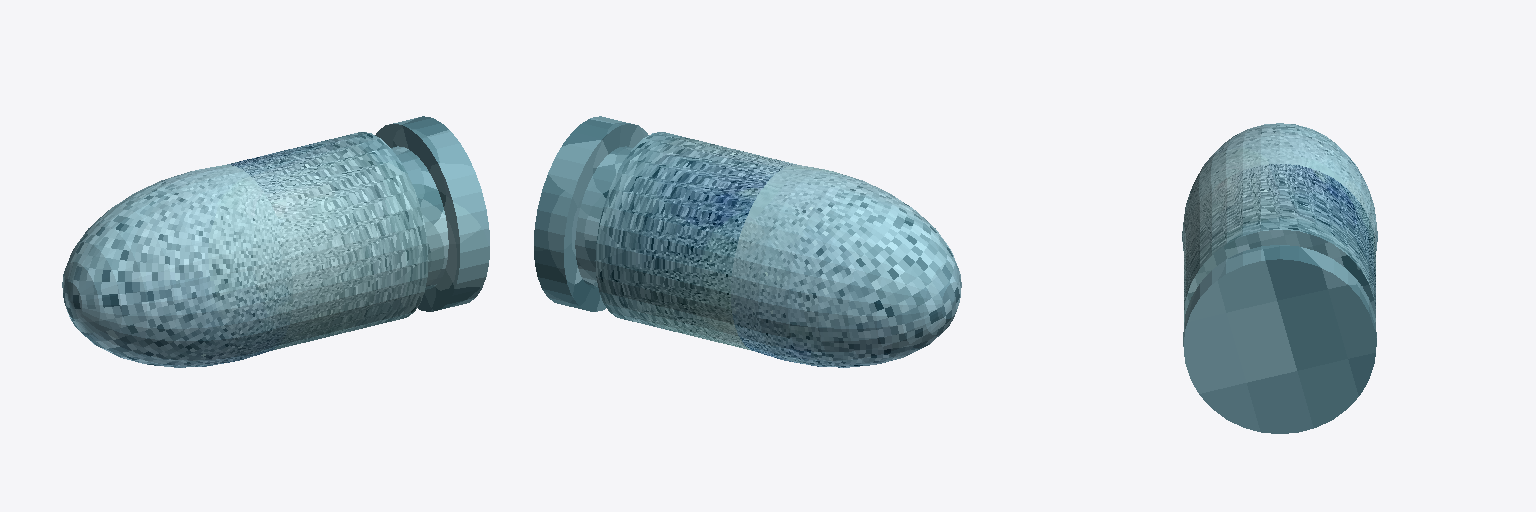
3 views of the same model, side by side, from view 1: azimuth 30°, elevation 25°; view 2: azimuth 150°, elevation 25°; view 3: azimuth 270°, elevation 25° (orthographic).
Visible parts, largest first — view 1: Sphere; view 2: Sphere; view 3: Sphere.
Boxes of the visible parts, box(x1,y1,x2,y2) form: Sphere: box(62, 116, 489, 367); Sphere: box(534, 116, 961, 367); Sphere: box(1182, 123, 1377, 433).
Bounding box in the file's own units: 4.38 × 2 × 2.
1 materials, 1 textured.